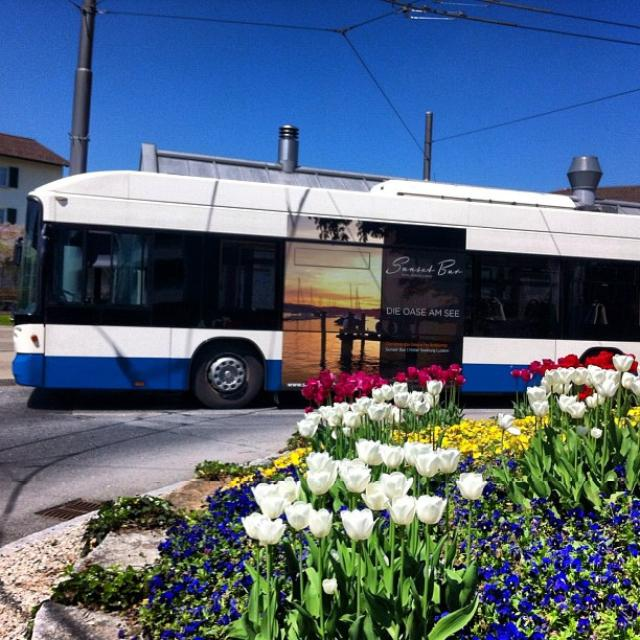Vehicle: (10, 170, 640, 408)
